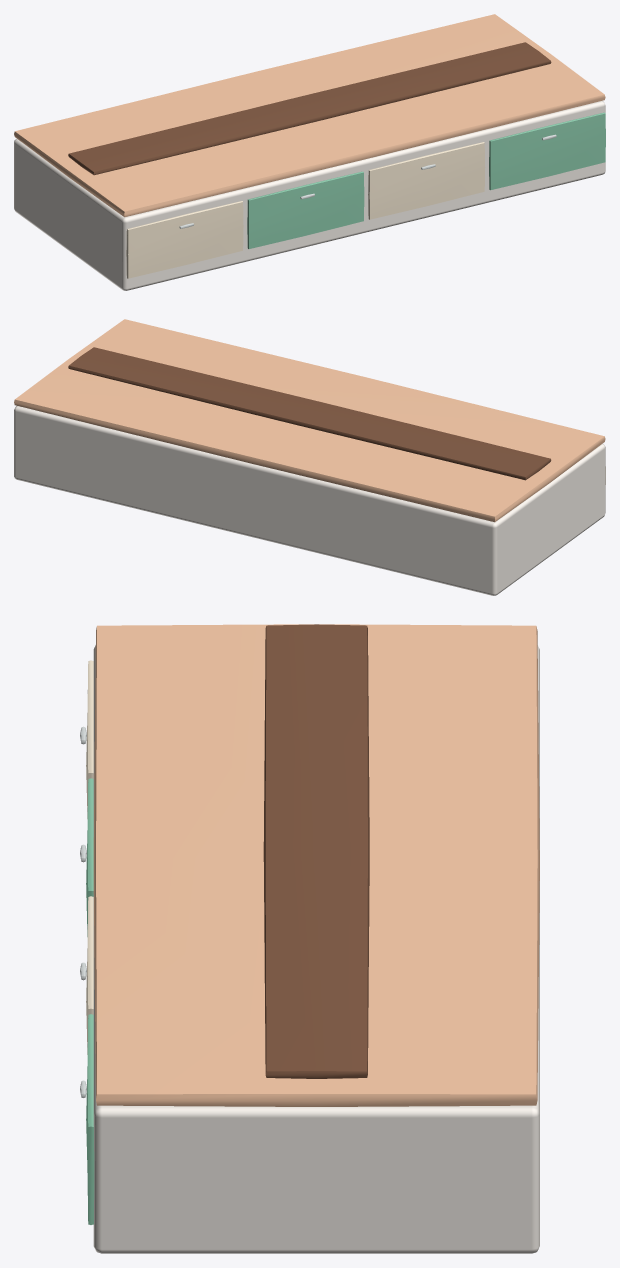
The model's file is spine-middle.glb.
3 views of the same model, one above another, from view 1: azimuth 30°, elevation 25°; view 2: azimuth 150°, elevation 25°; view 3: azimuth 270°, elevation 25° (orthographic). The views are drawn at different scales.
Visible parts, largest first — view 1: cabinet-top, cabinet-door (×4), cabinet, planter-inset; view 2: cabinet, cabinet-top, planter-inset; view 3: cabinet-top, cabinet, planter-inset, cabinet-door (×4).
Boxes of the visible parts, <box> form: cabinet-top: <box>14,14,605,217</box>; cabinet-door (×4): <box>126,112,605,278</box>; cabinet: <box>14,100,605,290</box>; planter-inset: <box>68,42,551,175</box>; cabinet: <box>14,406,605,595</box>; cabinet-top: <box>14,319,605,522</box>; planter-inset: <box>68,347,551,480</box>; cabinet-top: <box>93,624,539,1106</box>; cabinet: <box>93,645,539,1253</box>; planter-inset: <box>263,624,369,1078</box>; cabinet-door (×4): <box>86,660,94,1224</box>.
Size of the model in its own units: 4 by 0.6925 by 1.65.
Materials: 1 (1 with a texture image).
